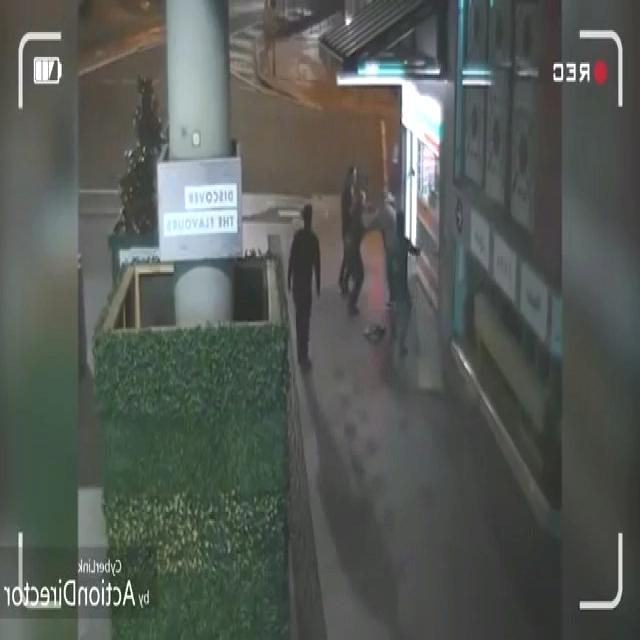fight: (344, 184, 397, 316)
